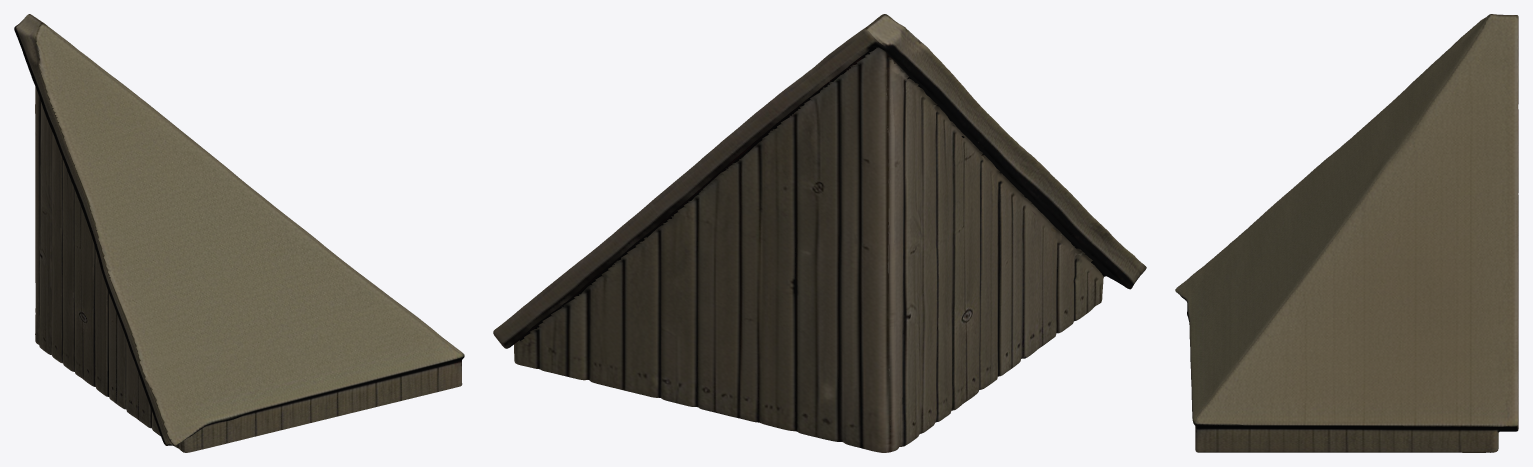
The model's file is roof-gable.glb.
3 renders of one model, left to right at view 1: azimuth 30°, elevation 25°; view 2: azimuth 150°, elevation 25°; view 3: azimuth 270°, elevation 25°, orthographic. The views are drawn at different scales.
Parts seen in each view (by area): view 1: tmpl1noh0i4.ply; view 2: tmpl1noh0i4.ply; view 3: tmpl1noh0i4.ply.
Part boxes in pixels (<box>): tmpl1noh0i4.ply: <box>14,14,464,452</box>; tmpl1noh0i4.ply: <box>493,14,1146,452</box>; tmpl1noh0i4.ply: <box>1175,14,1518,452</box>.
Size of the model in its own units: 1 by 1 by 1.
1 material, 1 textured.
